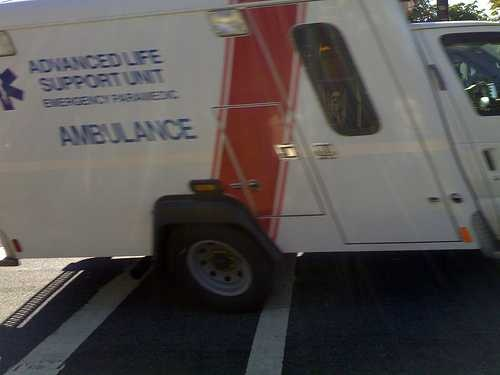Ambulance: (1, 1, 500, 273)
